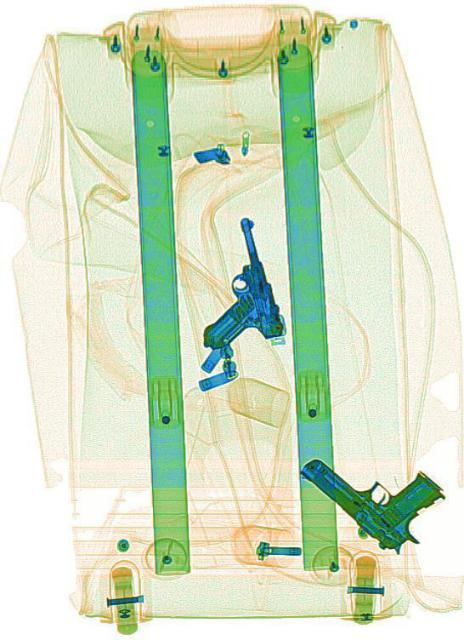Gun: (293, 398, 444, 570), (175, 211, 285, 367)
